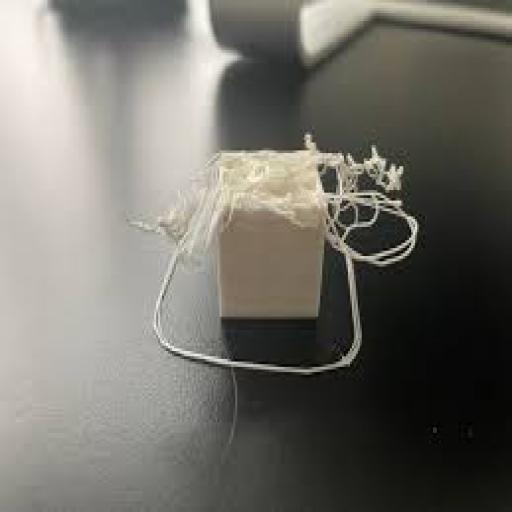spaghetti: (138, 135, 442, 315)
